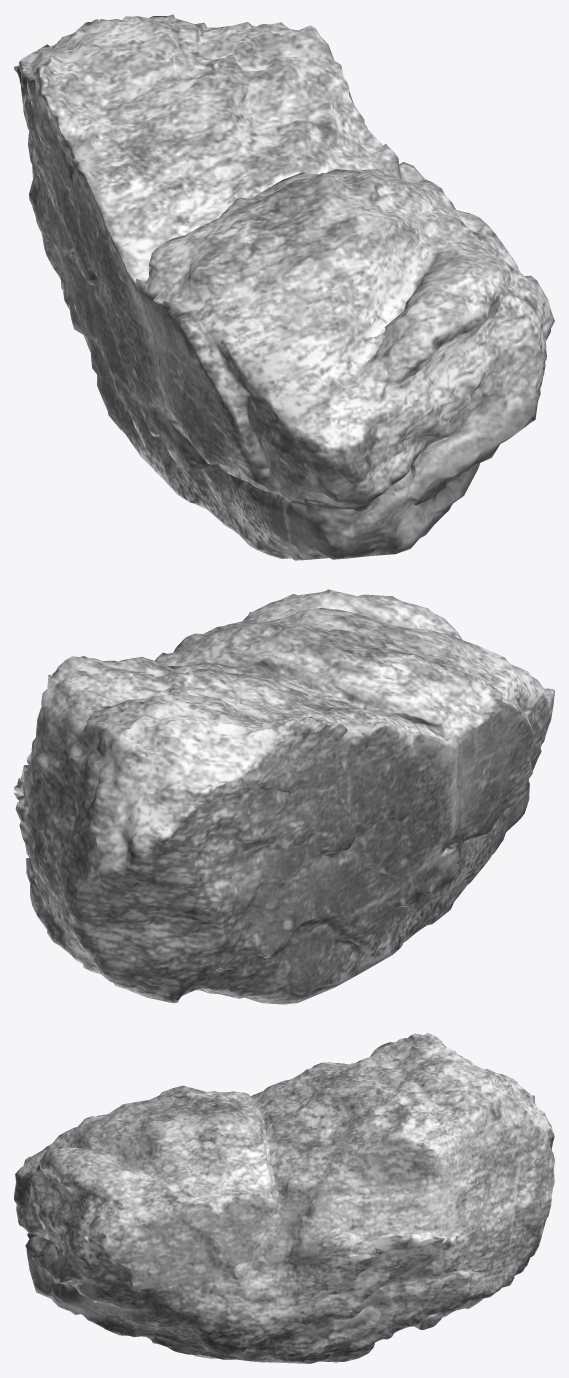
File: boulder-fieldstone-round-lod0.glb
The picture shows the model from 3 angles, top to bottom: view 1: azimuth 30°, elevation 25°; view 2: azimuth 150°, elevation 25°; view 3: azimuth 270°, elevation 25°; orthographic projection. The views are drawn at different scales.
Visible parts, largest first — view 1: namaqualand_boulder_06; view 2: namaqualand_boulder_06; view 3: namaqualand_boulder_06.
Part boxes in pixels (left/top/right/bottom): namaqualand_boulder_06: left=14, top=14, right=554, bottom=560; namaqualand_boulder_06: left=14, top=589, right=554, bottom=1004; namaqualand_boulder_06: left=14, top=1033, right=554, bottom=1363.
Size of the model in its own units: 0.6725 by 0.6494 by 1.21.
Materials: 1 (1 with a texture image).
